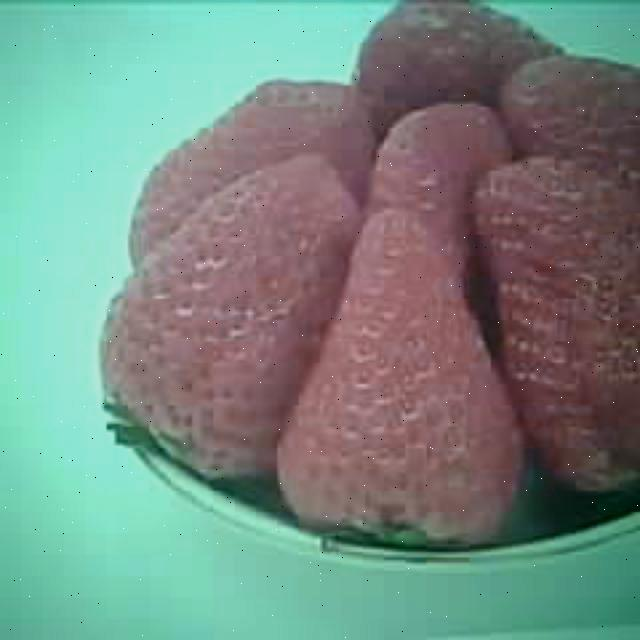ripe: (281, 208, 519, 549), (109, 159, 357, 479), (474, 157, 640, 485)
